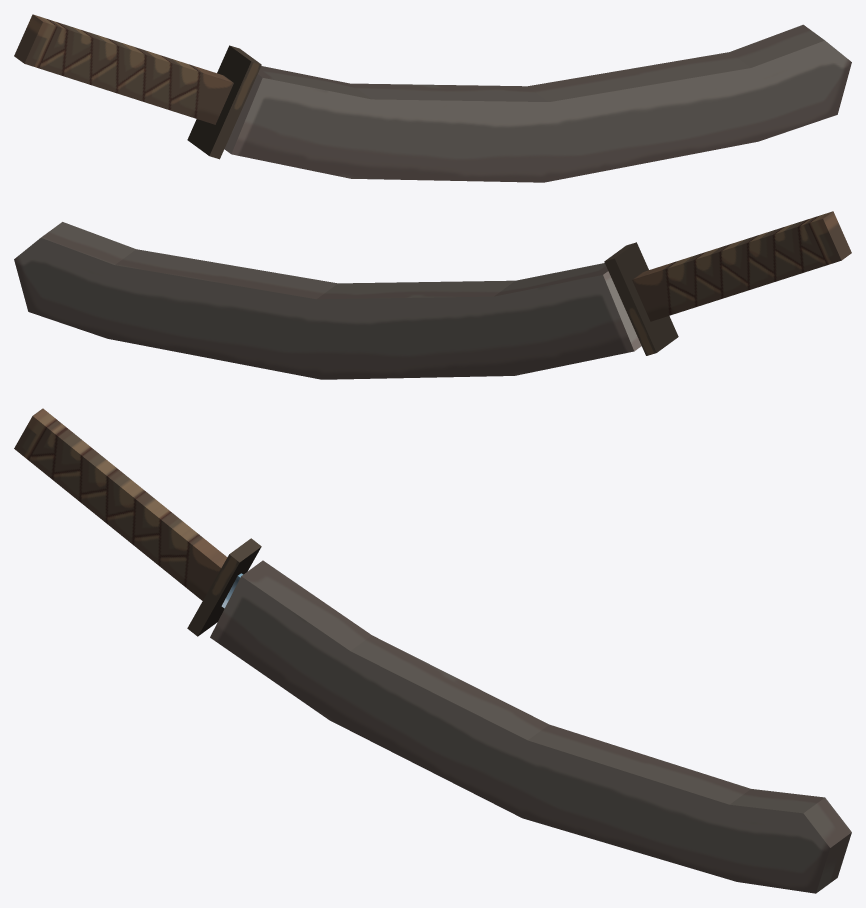
The model's file is sword2.FBX.
3 renders of one model, top to bottom at view 1: azimuth 30°, elevation 25°; view 2: azimuth 150°, elevation 25°; view 3: azimuth 330°, elevation 25°, orthographic.
Parts seen in each view (by area): view 1: Line08; view 2: Line08; view 3: Line08.
Part boxes in pixels (<box>): Line08: <box>14,14,851,182</box>; Line08: <box>14,211,851,379</box>; Line08: <box>14,408,851,893</box>.
Bounding box in the file's own units: 65.53 × 22.01 × 3.05.
